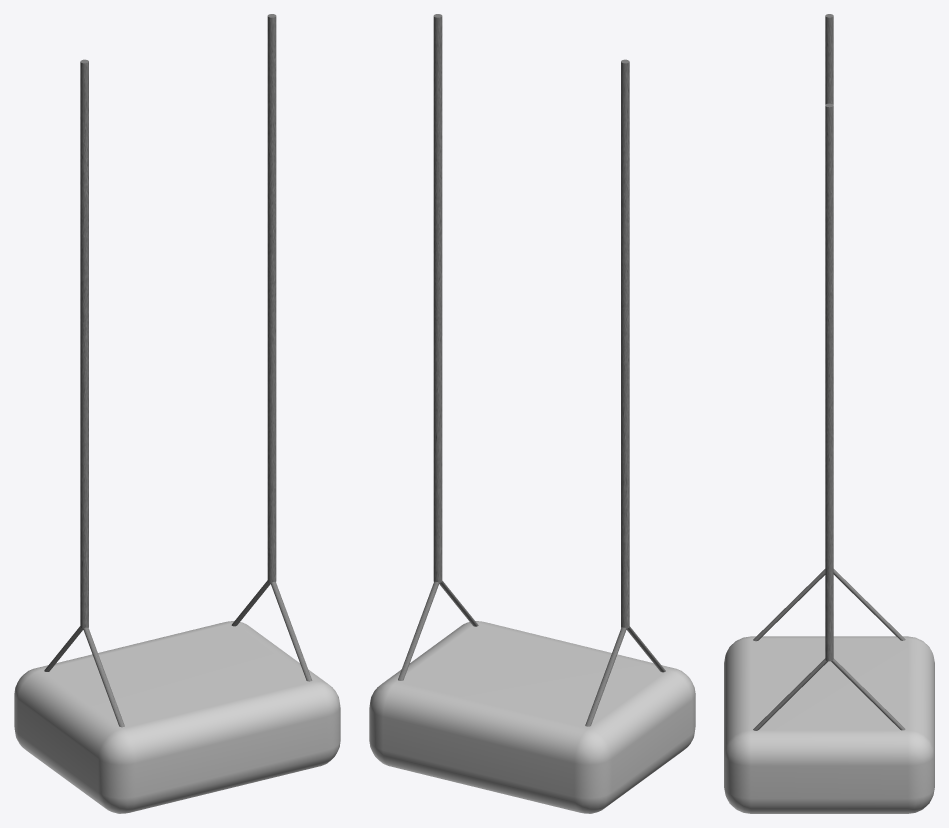
File: Juego32.obj
The picture shows the model from 3 angles, left to right: view 1: azimuth 30°, elevation 25°; view 2: azimuth 150°, elevation 25°; view 3: azimuth 270°, elevation 25°; orthographic projection. The views are drawn at different scales.
Visible parts, largest first — view 1: group8_pasted__group6_pasted__pasted__group5_pasted__pasted__pas; view 2: group8_pasted__group6_pasted__pasted__group5_pasted__pasted__pas; view 3: group8_pasted__group6_pasted__pasted__group5_pasted__pasted__pas.
Part boxes in pixels (x1=…): group8_pasted__group6_pasted__pasted__group5_pasted__pasted__pas: x1=14, y1=14, x2=340, y2=813; group8_pasted__group6_pasted__pasted__group5_pasted__pasted__pas: x1=369, y1=14, x2=695, y2=813; group8_pasted__group6_pasted__pasted__group5_pasted__pasted__pas: x1=724, y1=14, x2=934, y2=813.
Size of the model in its own units: 1 by 2.88 by 0.7799.
